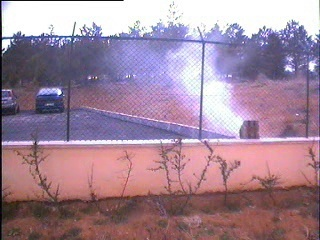smoke: (120, 30, 261, 138)
